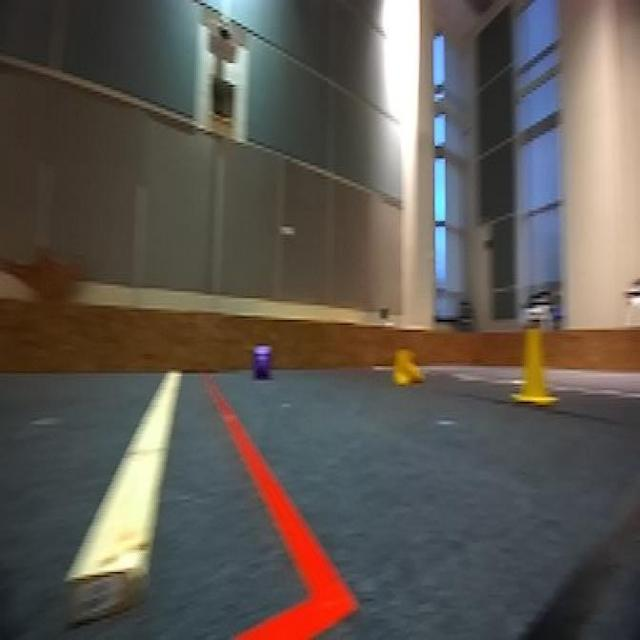frc_cone: (511, 322, 557, 407), (388, 344, 428, 388)
frc_cube: (252, 346, 272, 381)
